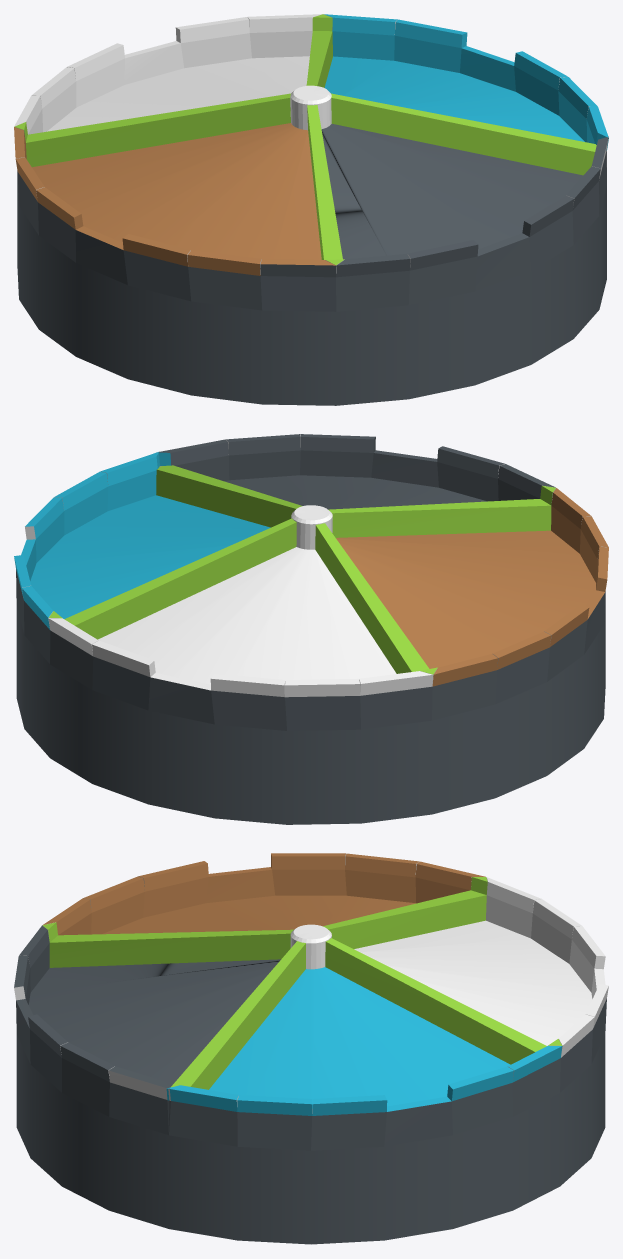
File: color shap 11.FBX
3 renders of one model, top to bottom at view 1: azimuth 30°, elevation 25°; view 2: azimuth 150°, elevation 25°; view 3: azimuth 270°, elevation 25°, orthographic.
Visible parts, largest first — view 1: Cylinder001; view 2: Cylinder001; view 3: Cylinder001.
Part boxes in pixels (x1,y1,x2,y2): Cylinder001: (14, 14, 608, 405); Cylinder001: (14, 434, 608, 824); Cylinder001: (14, 853, 608, 1244).
Size of the model in its own units: 81.66 by 28.54 by 81.89.
1 material, 1 textured.
